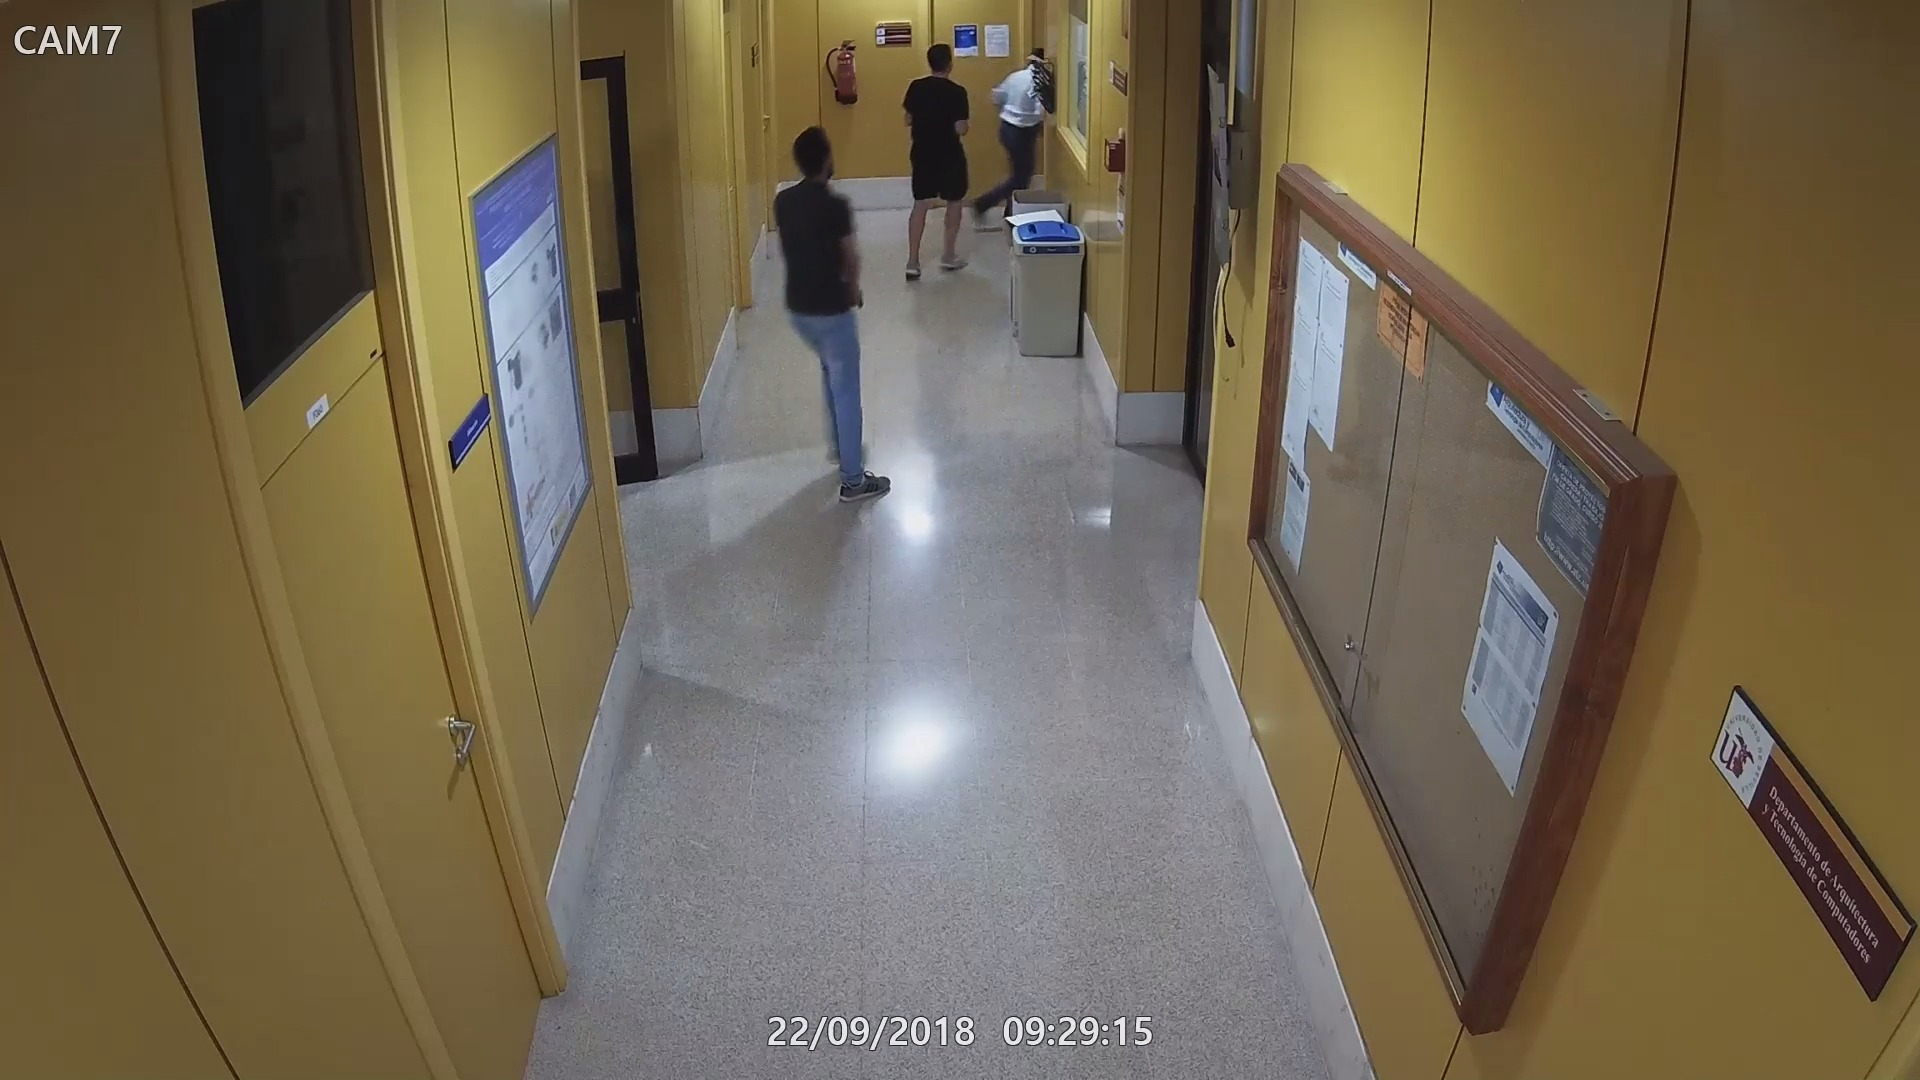Handgun: (843, 280, 869, 311)
